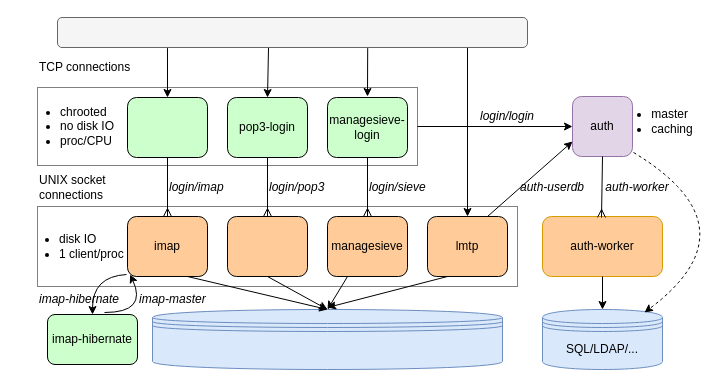
This 717x387 diagram has some shape labels left out. Each missing label, with the box of its shape:
Client connections (directly or Dovecot Proxy/Director): (56, 16, 528, 48)
imap-login: (126, 96, 208, 158)
pop3: (226, 216, 308, 276)
storage: (152, 308, 502, 370)
